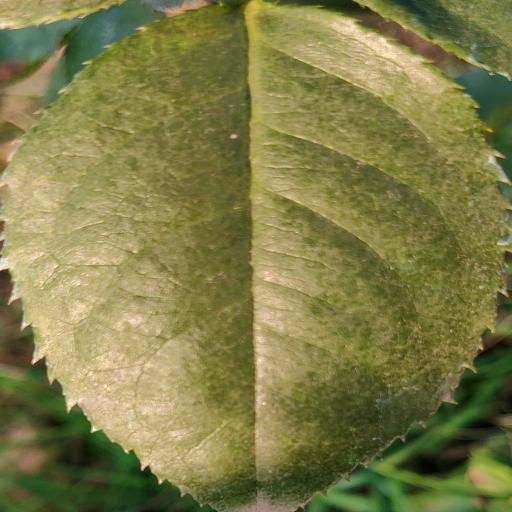healthy_leaf: (4, 1, 507, 512)
